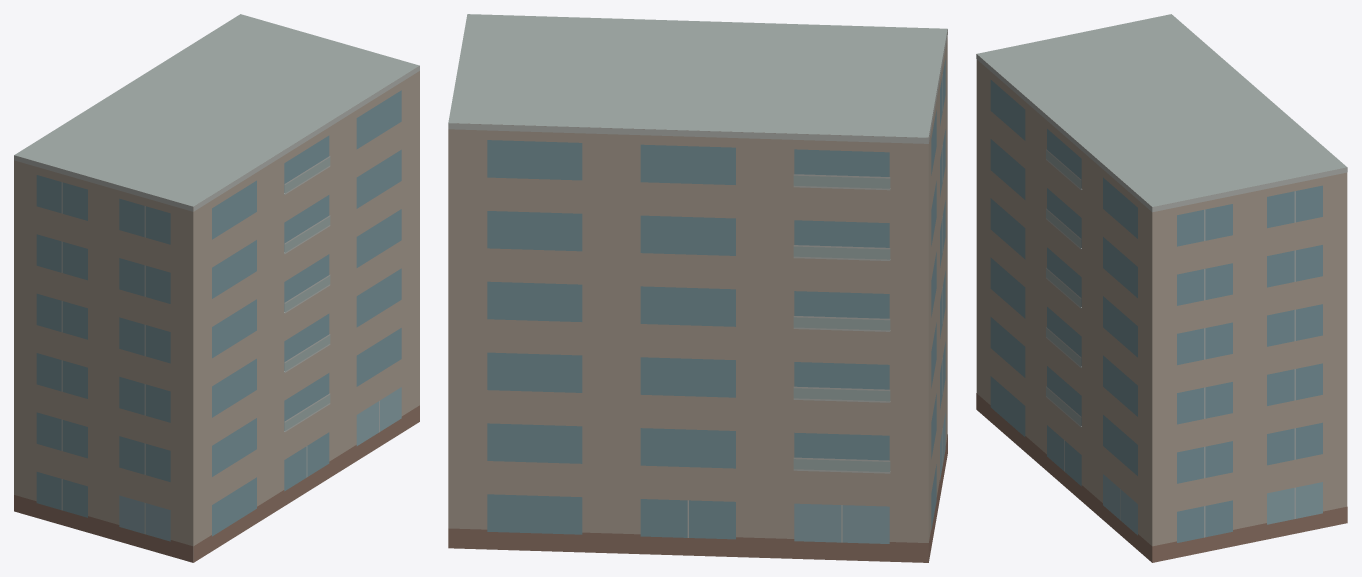
The model's file is survey-upis-32747983.glb.
The picture shows the model from 3 angles, left to right: view 1: azimuth 30°, elevation 25°; view 2: azimuth 150°, elevation 25°; view 3: azimuth 270°, elevation 25°; orthographic projection. The views are drawn at different scales.
Parts seen in each view (by area): view 1: survey-upis-32747983.tmp; view 2: survey-upis-32747983.tmp; view 3: survey-upis-32747983.tmp.
Part boxes in pixels (x1,y1,x2,y2): survey-upis-32747983.tmp: [14, 14, 419, 562]; survey-upis-32747983.tmp: [448, 14, 947, 562]; survey-upis-32747983.tmp: [976, 14, 1347, 562].
Bounding box in the file's own units: 19.56 × 16.8 × 15.88.
